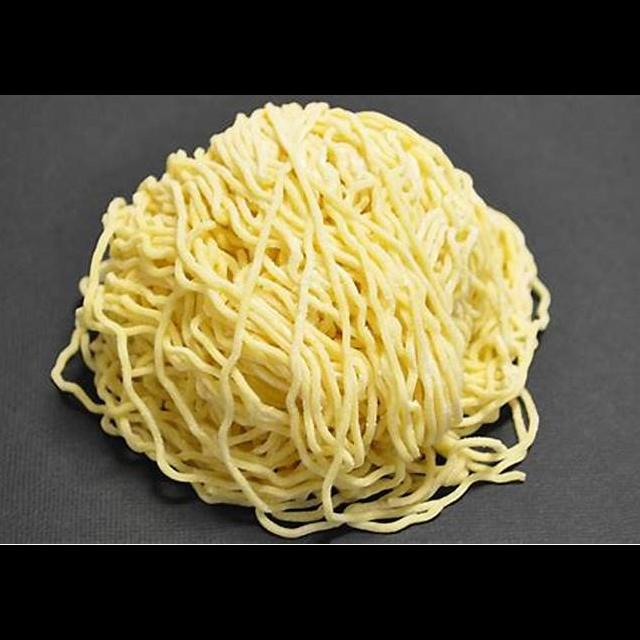food_waste: (45, 95, 578, 524)
